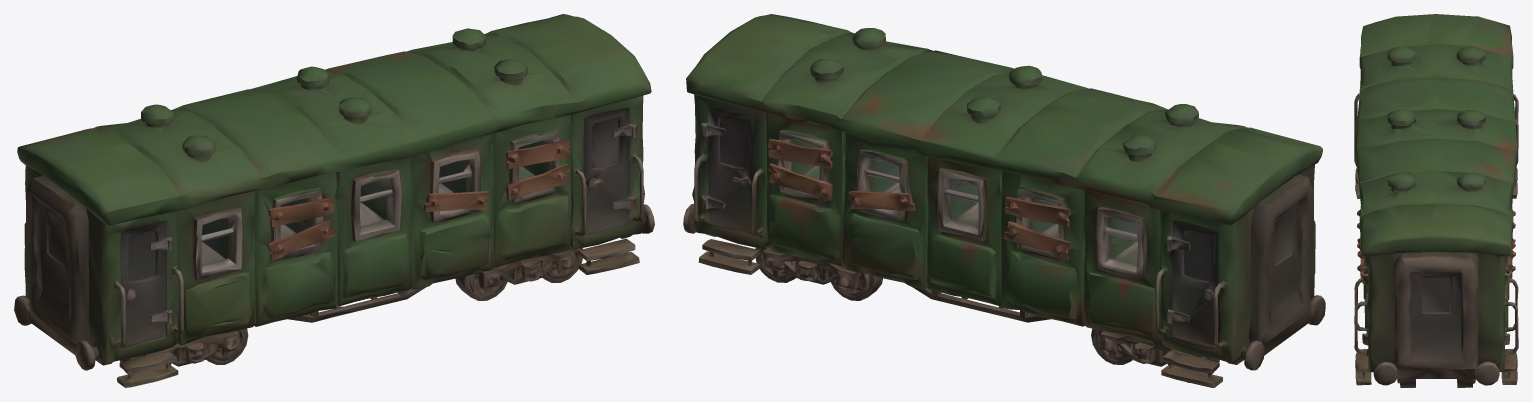
Rendered from train_coach_b_idle.glb.
3 renders of one model, left to right at view 1: azimuth 30°, elevation 25°; view 2: azimuth 150°, elevation 25°; view 3: azimuth 270°, elevation 25°, orthographic. The views are drawn at different scales.
Visible parts, largest first — view 1: tripo_node_332db4dc-109c-45f0-b58b-85a8351796ae; view 2: tripo_node_332db4dc-109c-45f0-b58b-85a8351796ae; view 3: tripo_node_332db4dc-109c-45f0-b58b-85a8351796ae.
Part boxes in pixels (x1,y1,x2,y2): tripo_node_332db4dc-109c-45f0-b58b-85a8351796ae: (14,14,654,387); tripo_node_332db4dc-109c-45f0-b58b-85a8351796ae: (683,14,1325,387); tripo_node_332db4dc-109c-45f0-b58b-85a8351796ae: (1354,14,1518,387).
Size of the model in its own units: 8 by 3.1 by 2.4.
1 material, 1 textured.
